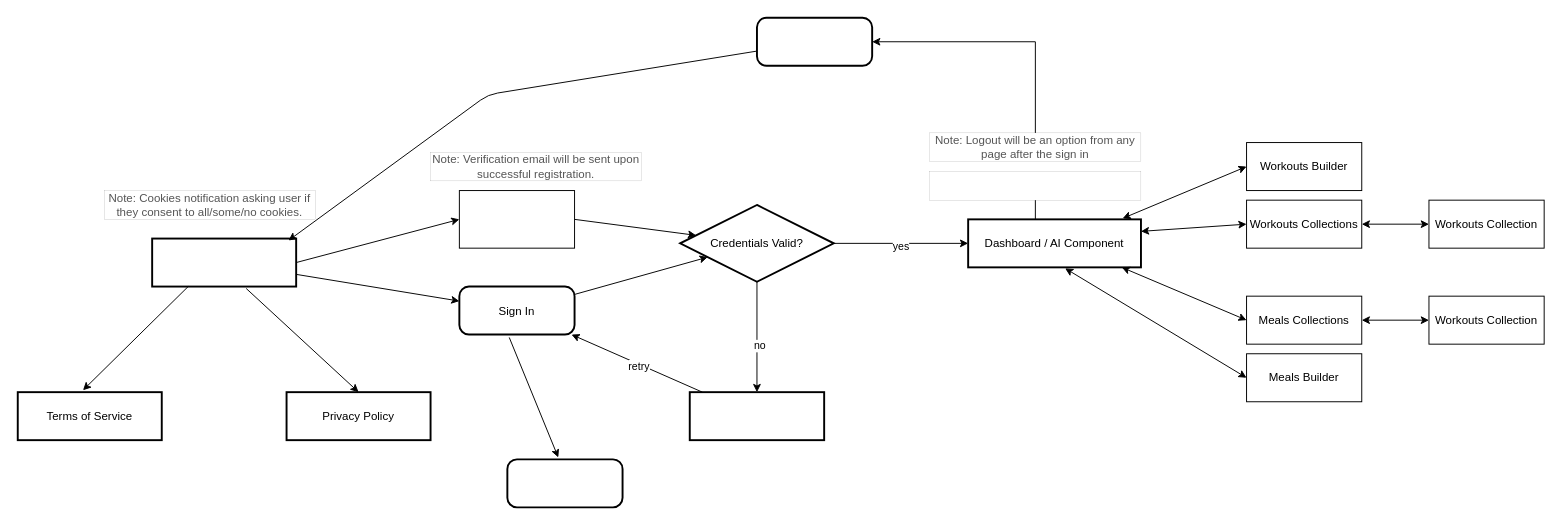
Some shapes in this 1561 by 524 pixel diagram are drawn without their labels. The centre of each missing label's shape, as x and y in pixels:
"Error Message" belongs at point 756,416.
"Forgot Password" belongs at point 564,483.
"Landing Page" belongs at point 224,262.
"Log Out" belongs at point 814,41.
"Note: Credentials checked via backend and redirect to log in if invalid" belongs at point 1034,185.
"Registration page" belongs at point 516,219.
